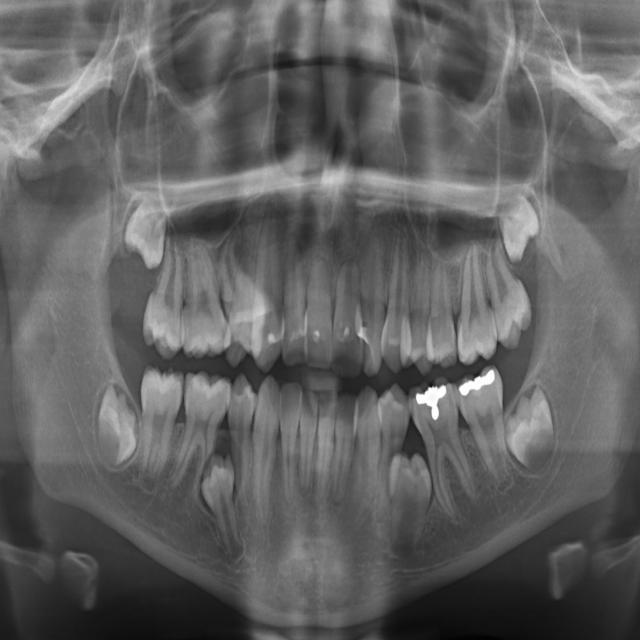AmalgamRestoration: (413, 379, 450, 422), (458, 369, 497, 400)
DentalCaries: (220, 320, 232, 350)
ImpactedTooth: (386, 446, 436, 552), (199, 447, 238, 567)
